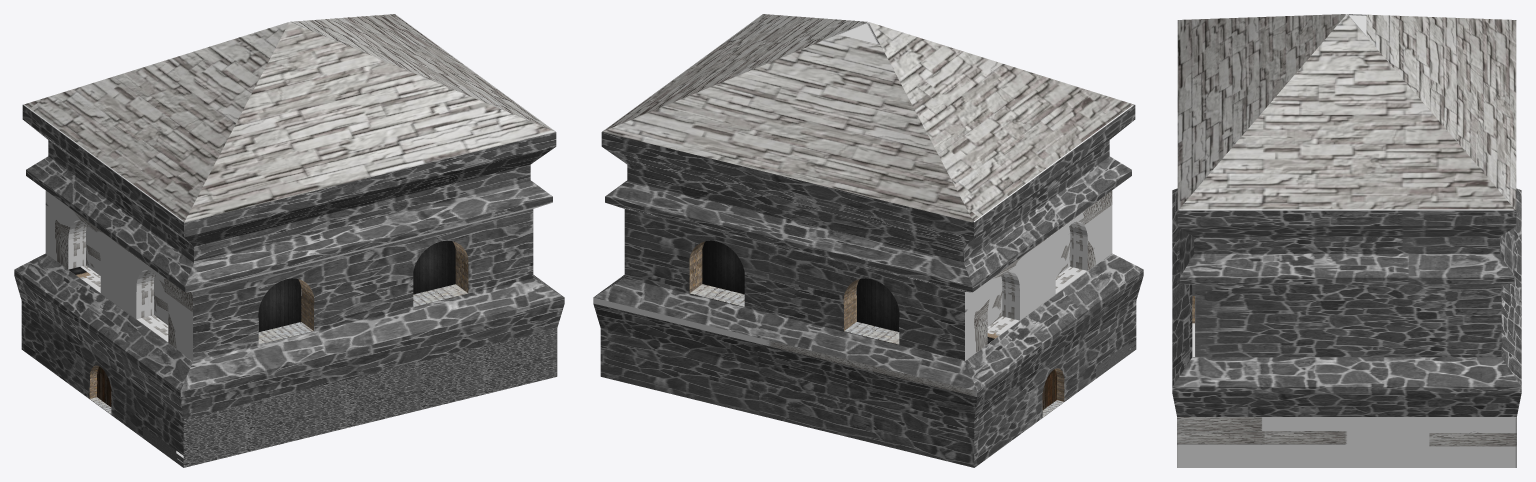
Rendered from Hittites_TownCenter.fbx.
The picture shows the model from 3 angles, left to right: view 1: azimuth 30°, elevation 25°; view 2: azimuth 150°, elevation 25°; view 3: azimuth 270°, elevation 25°; orthographic projection. The views are drawn at different scales.
Parts seen in each view (by area): view 1: Plano; view 2: Plano; view 3: Plano.
Part boxes in pixels (x1=…): Plano: x1=14, y1=14, x2=564, y2=467; Plano: x1=593, y1=14, x2=1143, y2=467; Plano: x1=1172, y1=14, x2=1521, y2=467.
Bounding box in the file's own units: 1259 × 1067 × 944.
Materials: 8 (8 with a texture image).
